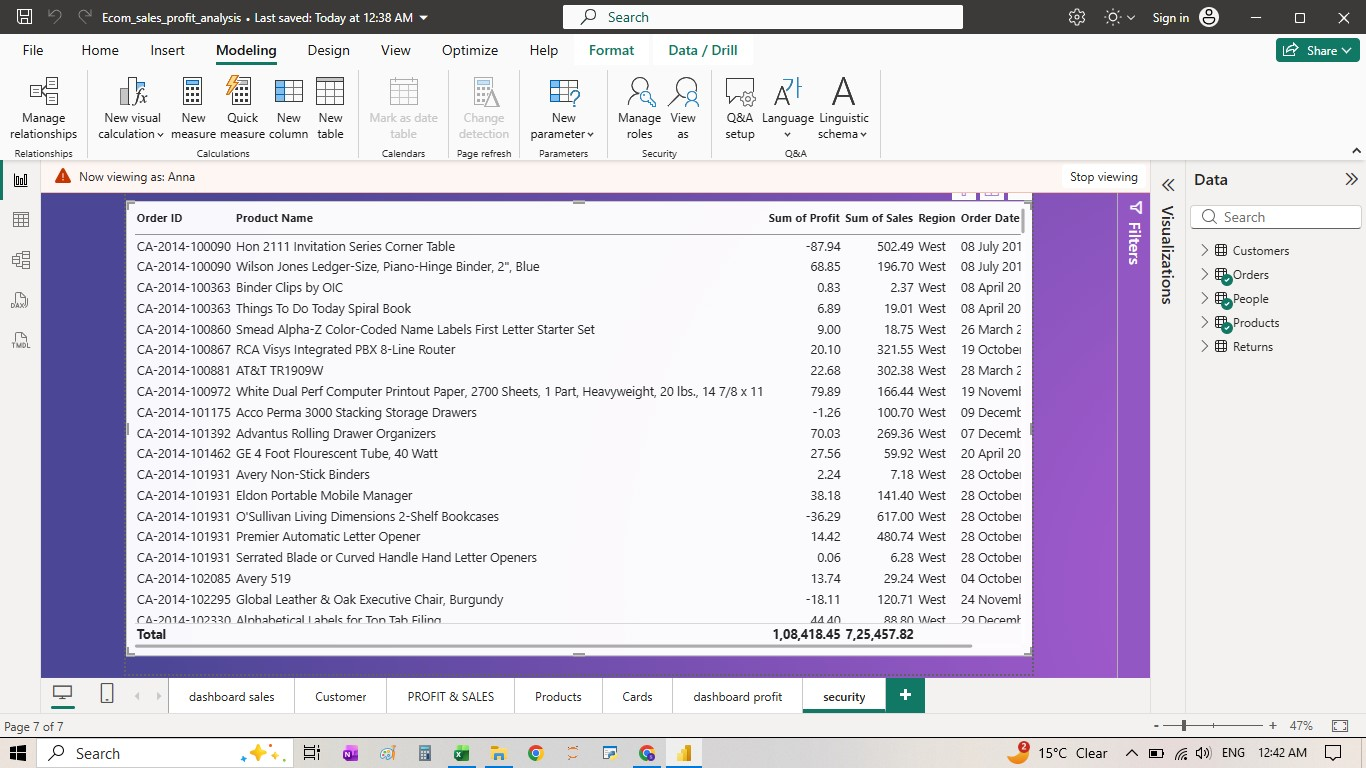

What the dashboard file says about the page in this screenshot:
{"tool":"powerbi","page":{"name":"security","canvas":[1920,1080],"ordinal":6},"visuals":[{"type":"tableEx","fields":{"Values":["Orders.Order ID","Products.Product Name","Sum(Orders.Profit)","Sum(Orders.Sales)","People.Region","Orders.Order Date"]},"box":[0,78.4,1920.7,963.5],"z":0}]}

Visuals, with their boxes on the page's 1920x1080 design canvas (x1, y1, x2, y2). These are canvas units, not pixel positions in the 1366x768 screenshot, which may show the page scaled, cropped or inside an application window:
tableEx - Orders.Order ID x Products.Product Name: crop(0, 78, 1921, 1042)
